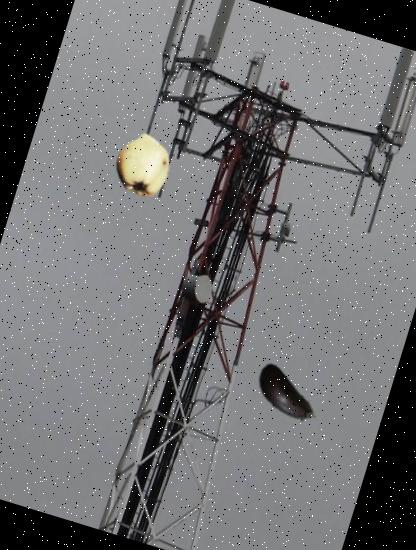Eggplant: (238, 350, 330, 442)
Quince: (104, 125, 184, 204)
